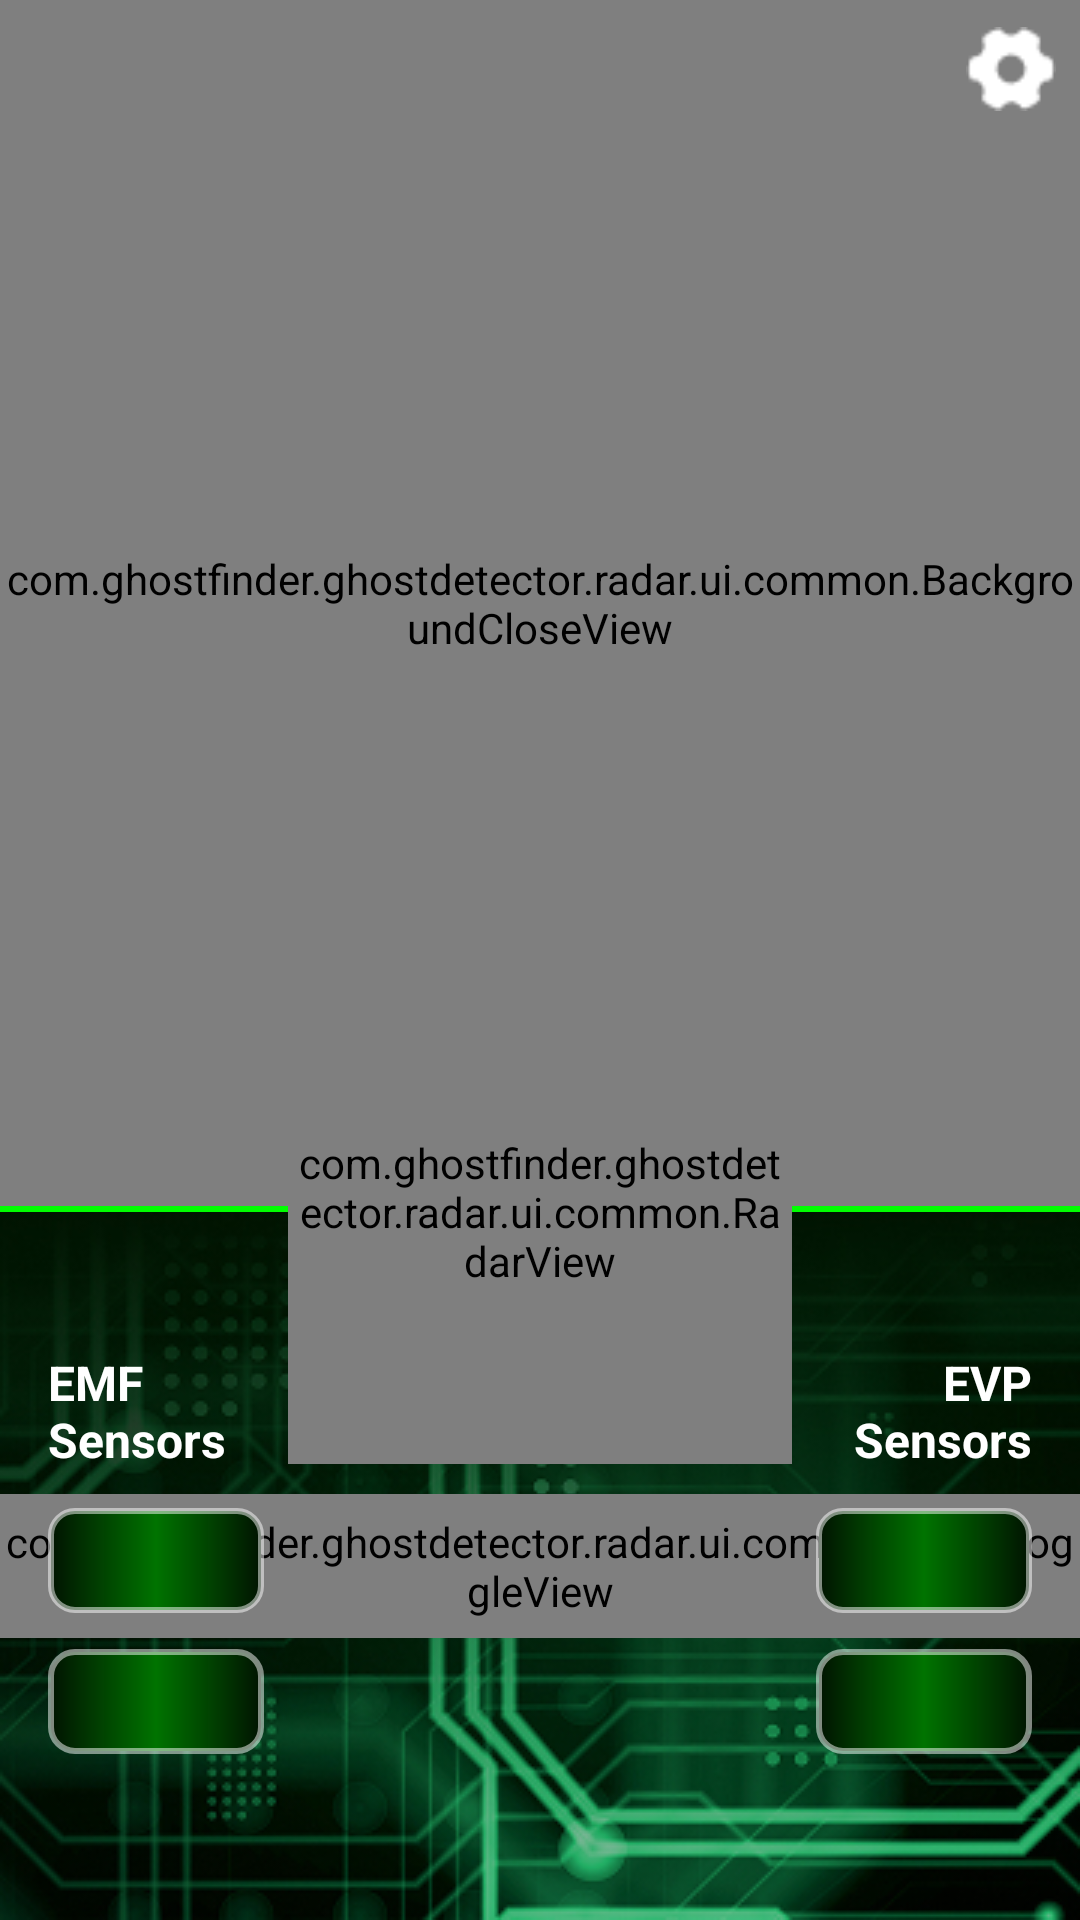

Where to tap for icons on this 1080 x 1920 app screen, as point (x, y):
setting: point (1011, 69)
